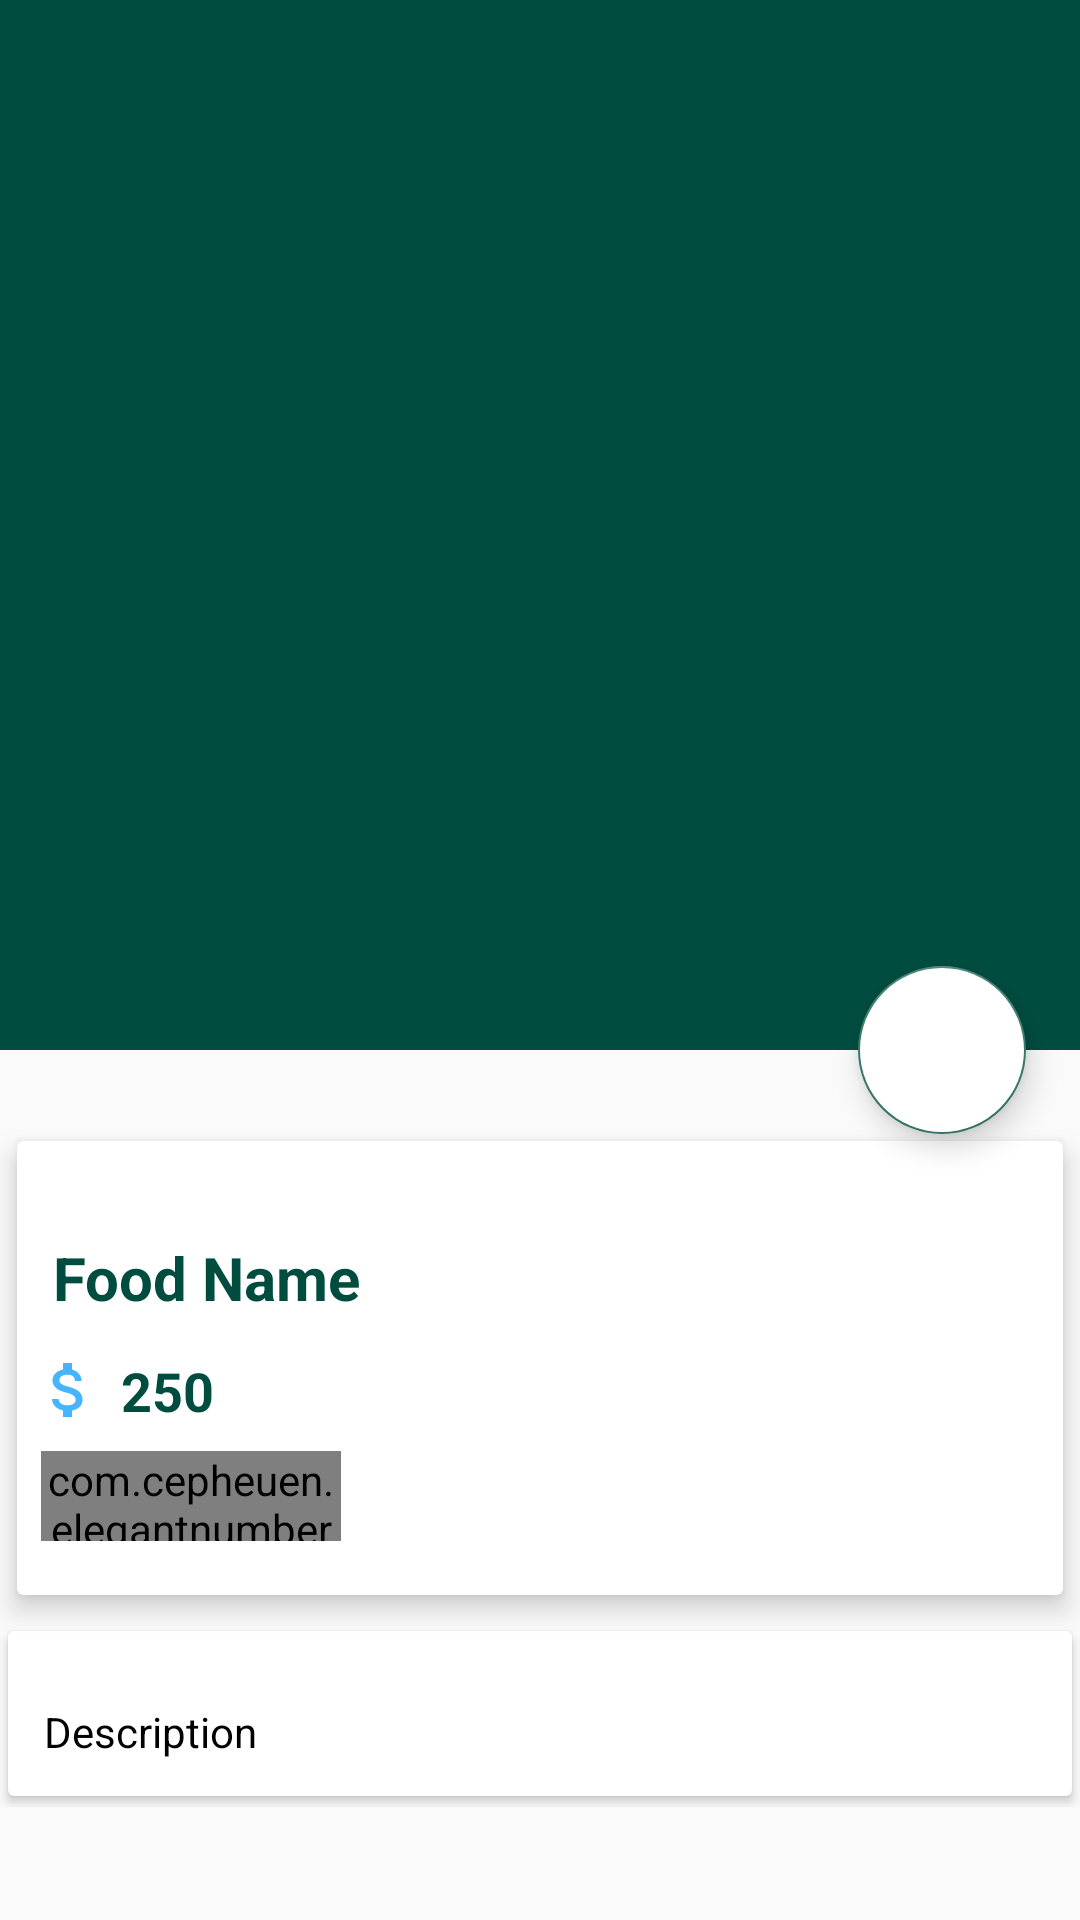

Locate icon controls on the screen. Image size 1080px x 1920px, boxes as (x1,y1,x2,y2).
attach money: (52,1363,83,1417)
